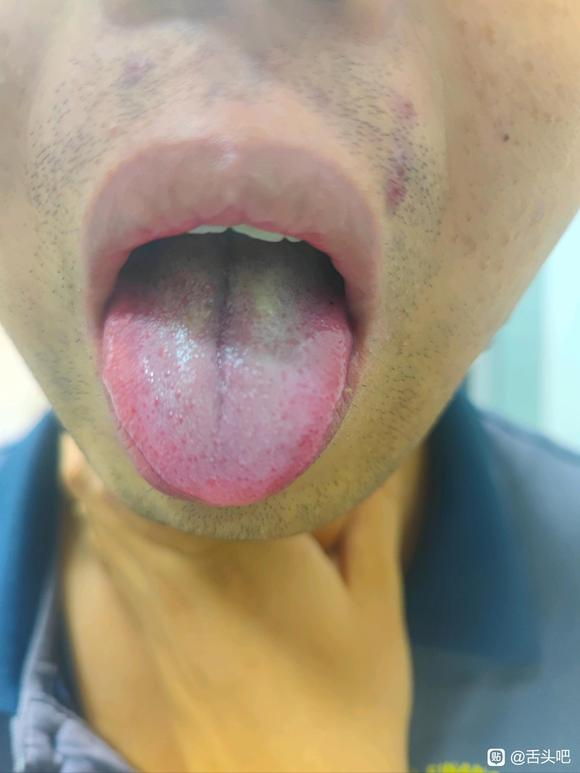hongdianshe: (129, 405, 137, 415)
hongshe: (102, 229, 353, 504)
huangtaishe: (102, 229, 353, 504)
